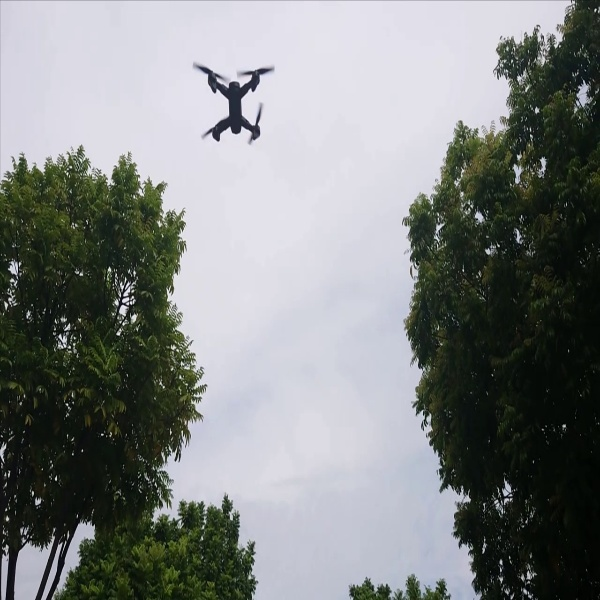drone: (183, 49, 285, 152)
